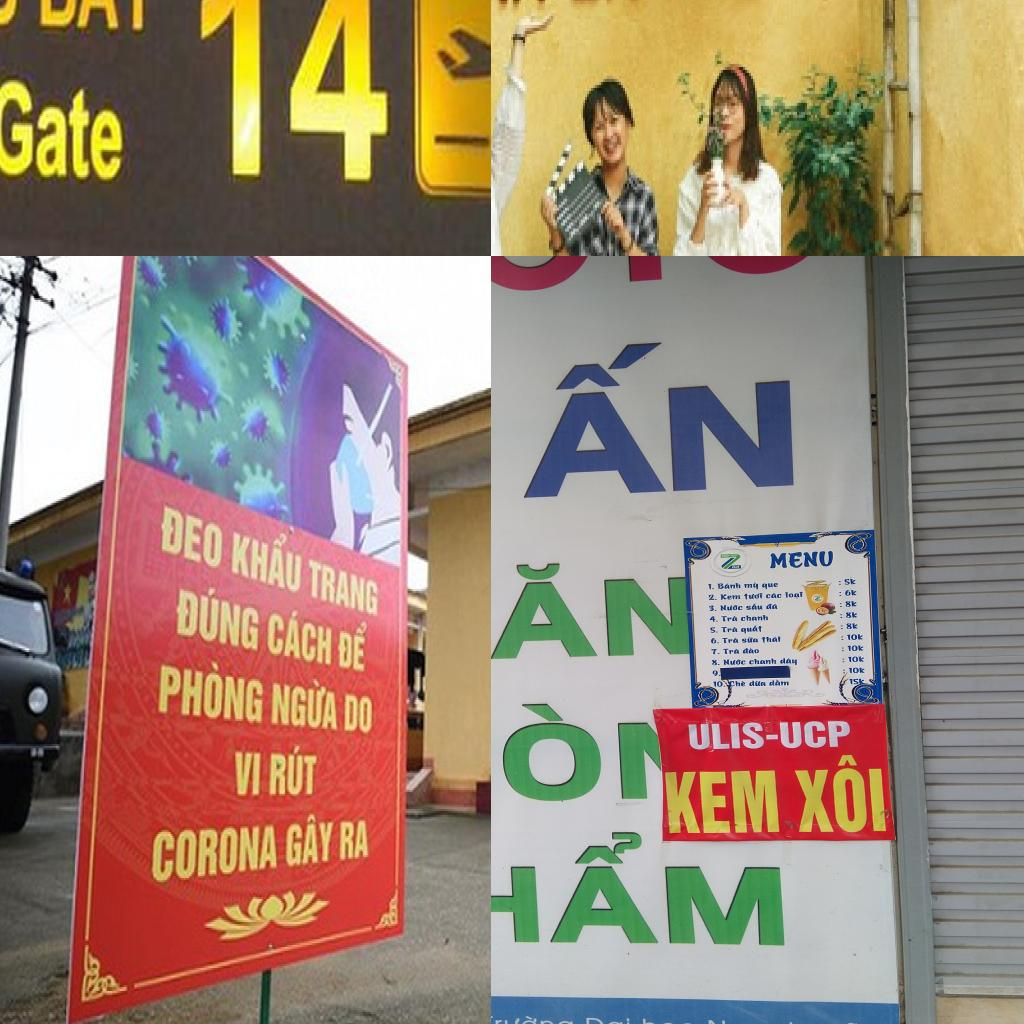text: (190, 0, 396, 204), (669, 422, 807, 664), (861, 487, 998, 717), (491, 342, 591, 551), (491, 587, 602, 720), (156, 648, 266, 729), (149, 822, 280, 890), (929, 273, 1024, 347), (174, 578, 260, 656), (228, 514, 306, 598), (950, 353, 1024, 441), (157, 501, 226, 574), (306, 556, 380, 622), (266, 600, 335, 670), (271, 670, 341, 736), (36, 0, 164, 35), (267, 740, 321, 800), (284, 813, 338, 872), (887, 356, 925, 424), (884, 300, 923, 355), (335, 612, 369, 675), (231, 746, 265, 799), (337, 818, 372, 864), (342, 690, 374, 738), (658, 314, 684, 362), (646, 831, 686, 849), (663, 383, 683, 400), (757, 367, 771, 384), (802, 379, 812, 397), (768, 292, 778, 310), (744, 362, 752, 384), (802, 356, 810, 378), (701, 383, 710, 402), (798, 291, 808, 308), (800, 340, 812, 354), (784, 291, 793, 309), (713, 336, 723, 351), (772, 353, 782, 368), (715, 384, 724, 400), (730, 382, 738, 400), (814, 290, 822, 308), (714, 367, 724, 381), (694, 297, 704, 311), (710, 296, 720, 310), (725, 296, 735, 310), (754, 295, 764, 309), (830, 347, 839, 362), (700, 370, 711, 382), (701, 355, 711, 368), (728, 367, 738, 380), (698, 319, 706, 335), (773, 370, 782, 384), (828, 291, 838, 303), (788, 384, 797, 397), (745, 385, 753, 399), (760, 385, 768, 399), (788, 369, 796, 383), (832, 364, 840, 378), (740, 296, 748, 310), (774, 385, 782, 398), (832, 394, 841, 405), (714, 353, 722, 365), (832, 380, 840, 392), (728, 355, 737, 365), (745, 400, 754, 408), (774, 400, 783, 407), (788, 399, 797, 406), (803, 399, 812, 406), (716, 402, 725, 408), (731, 402, 739, 408), (760, 401, 768, 407), (818, 399, 826, 405), (718, 323, 726, 328), (678, 384, 683, 391), (702, 404, 710, 408)
